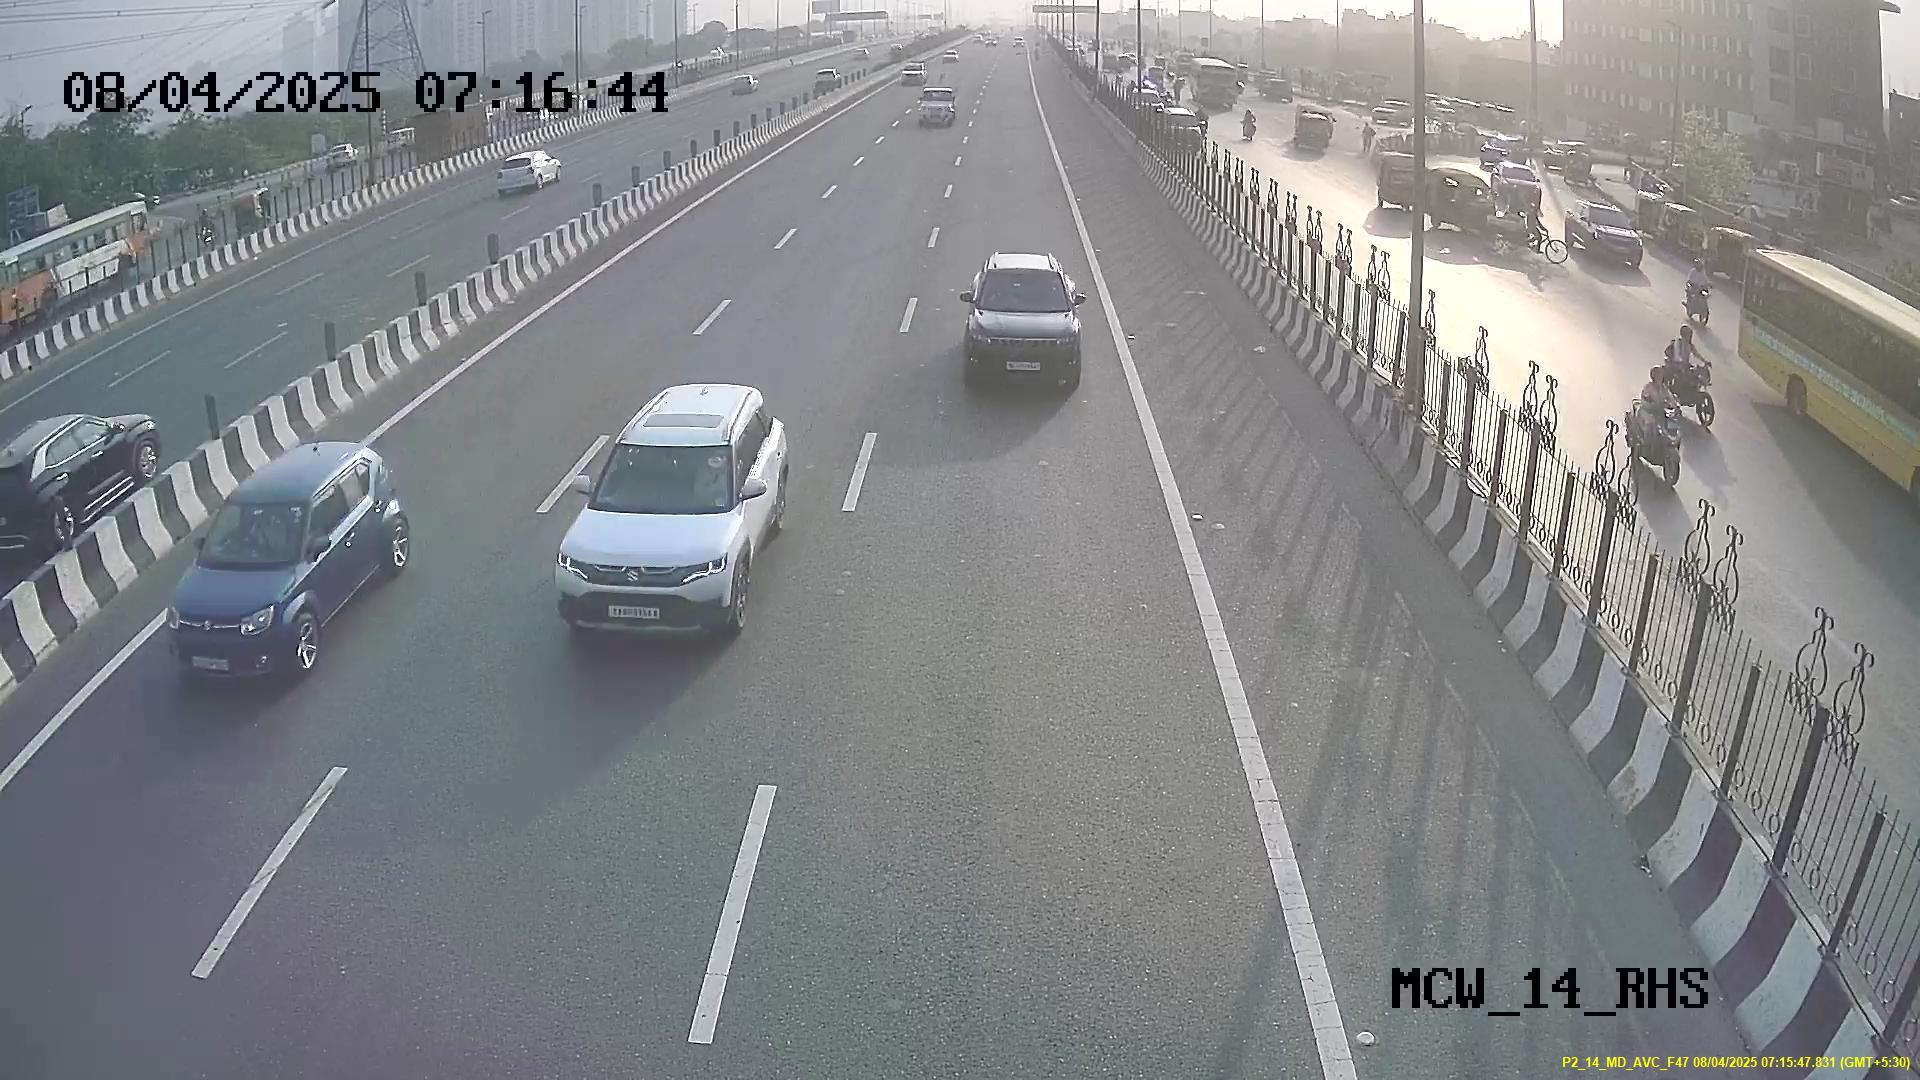car: (553, 417, 757, 634), (167, 464, 352, 687), (959, 266, 1087, 400)
